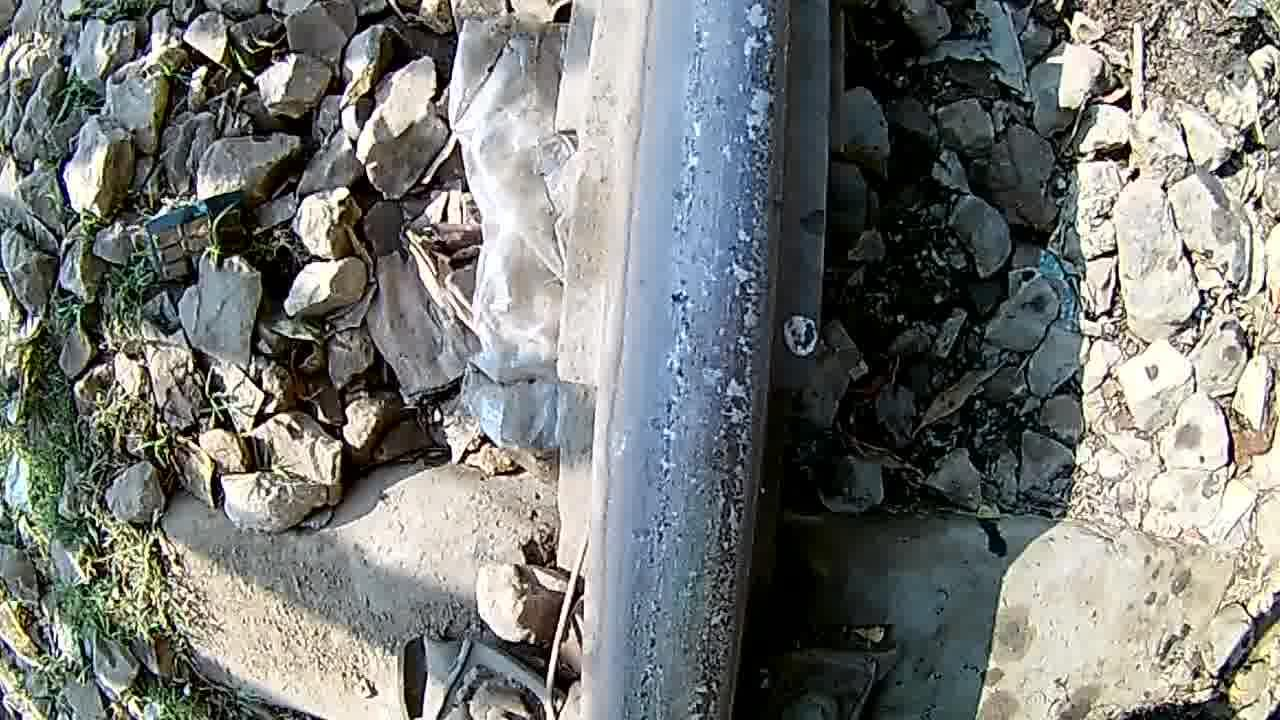clip_missing: (588, 0, 807, 720)
